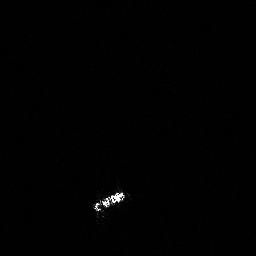ship: (89, 188, 129, 214)
